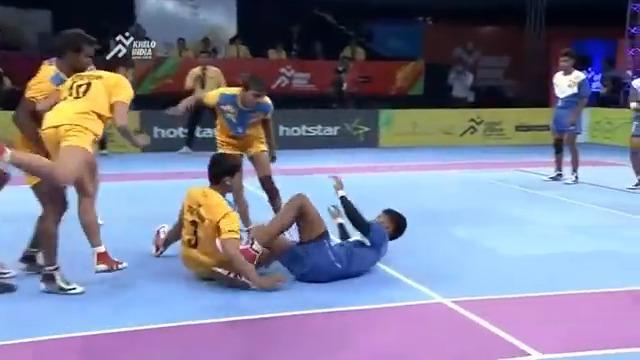Player: (1, 59, 150, 276), (175, 72, 286, 241), (151, 151, 285, 290), (542, 47, 591, 184), (621, 47, 639, 191)
Raider: (238, 174, 407, 284)
referee: (176, 63, 226, 154)
